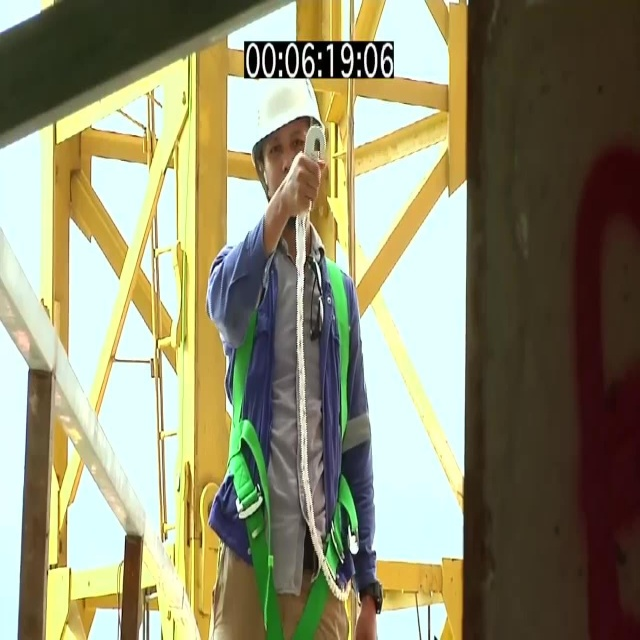Arnes_seguridad: (225, 243, 364, 637)
